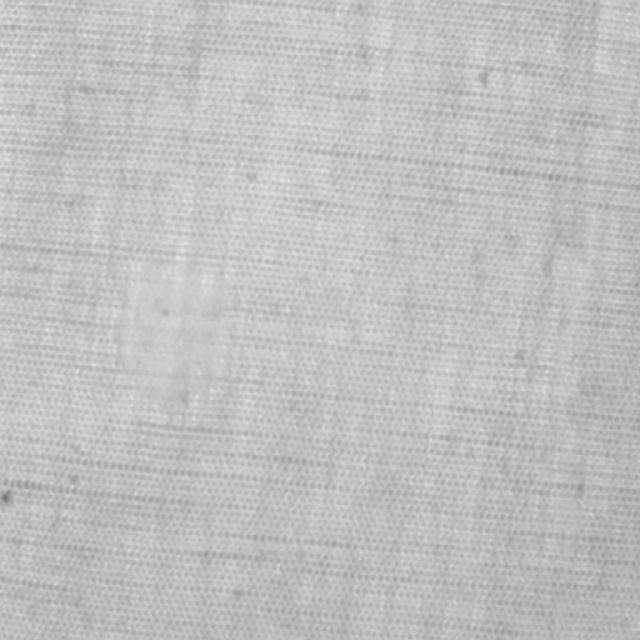oil spot: (113, 250, 237, 425)
